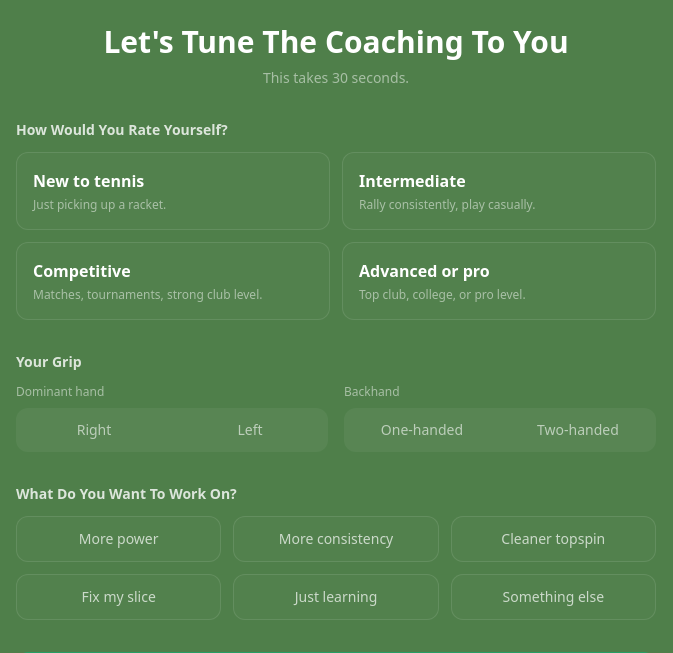
Test: OnboardingPage › surfaces an error message when updateUser rejects
expect the heading "How Would You Rate Yourself?" is shown: met, box x1=16 y1=120 x2=228 y2=139
What coordinates should you click on to do the following:
click the text "Intermediate"
I would click on:
 (412, 181)
Its box is x1=359 y1=170 x2=466 y2=192.
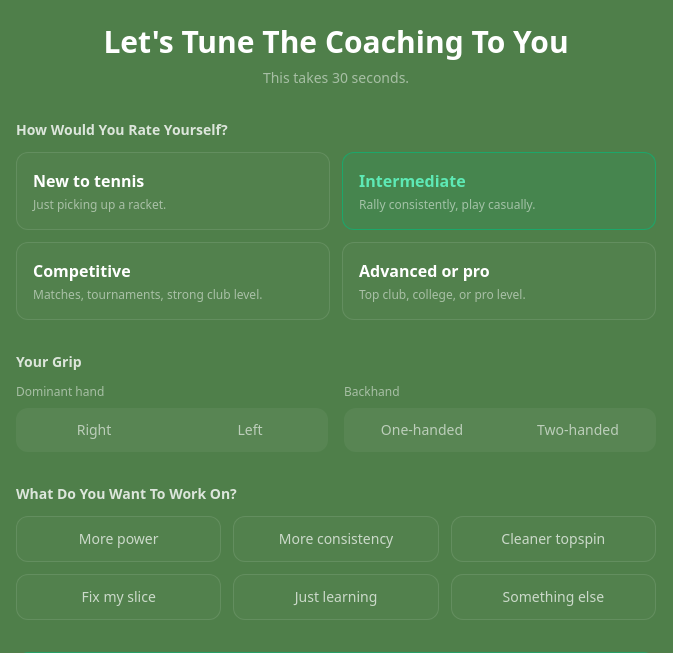
What coordinates should you click on to do the following:
click the button "Right"
I would click on:
 (94, 430)
Its box is x1=20 y1=412 x2=168 y2=448.
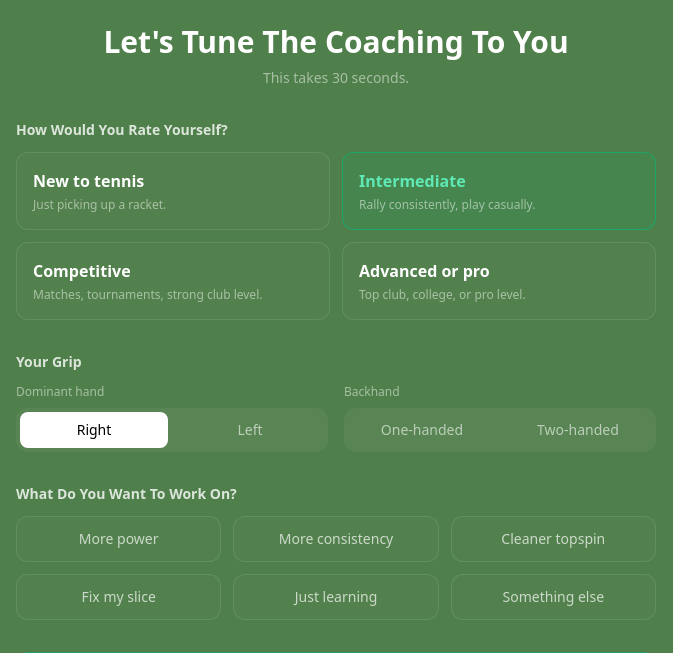
What coordinates should you click on to do the following:
click the button "Two-handed"
I would click on:
 (578, 430)
Its box is x1=504 y1=412 x2=652 y2=448.
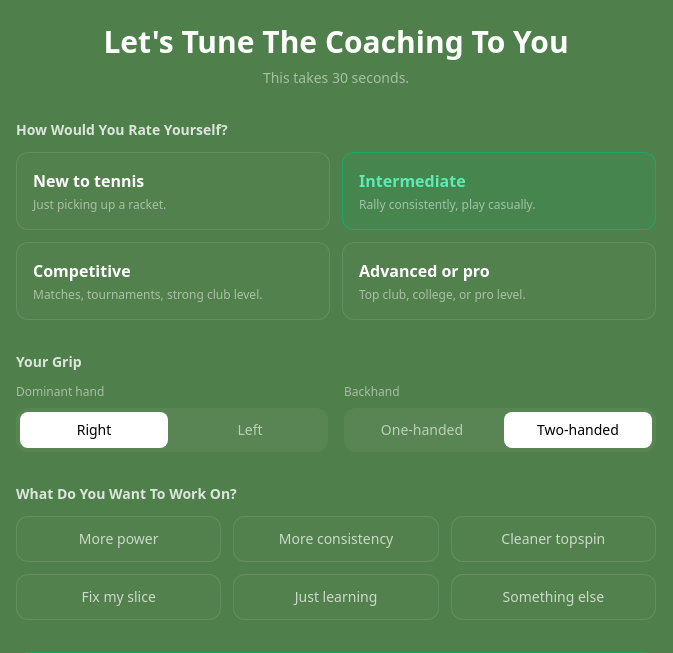
What coordinates should you click on to do the following:
click the button "More power"
I would click on:
 (119, 539)
Its box is x1=16 y1=516 x2=221 y2=562.
(page scrolled)
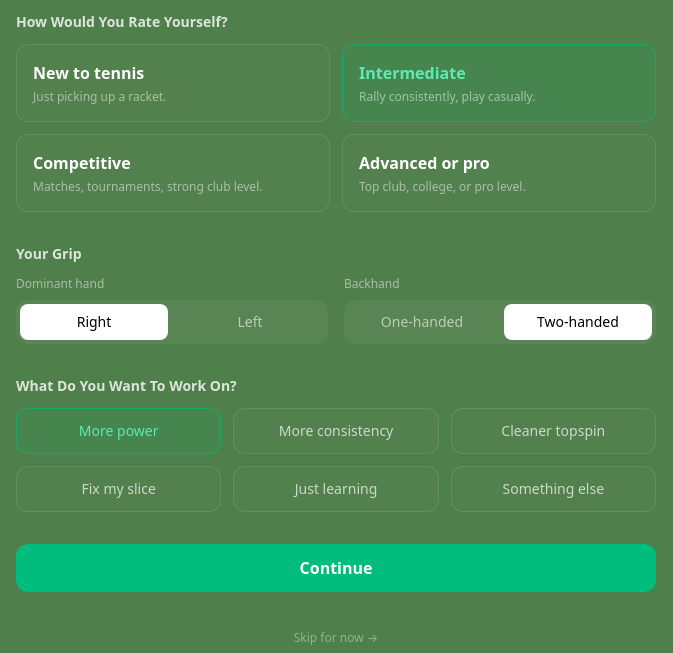
What coordinates should you click on to do the following:
click the button "Continue"
I would click on:
 (336, 568)
Its box is x1=16 y1=544 x2=656 y2=592.
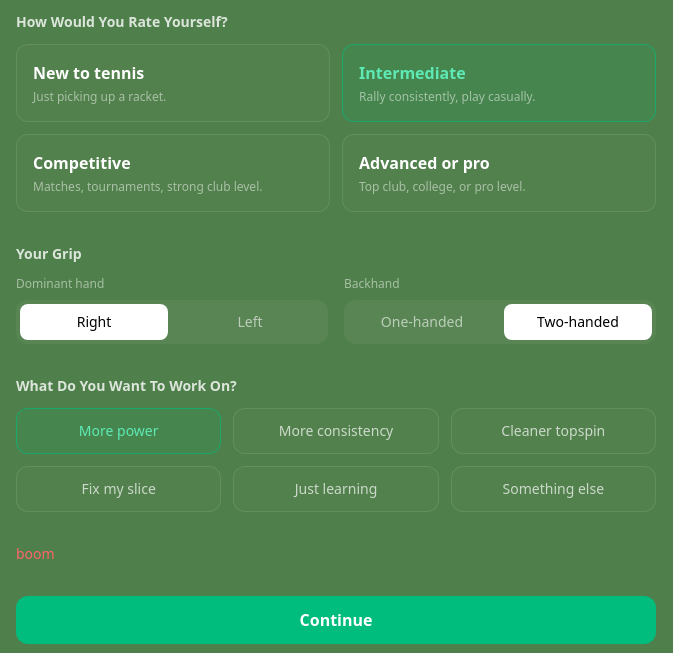
expect the button "Continue" is enabled: met, box x1=16 y1=596 x2=656 y2=644
expect the text "boom" is shown: met, box x1=16 y1=544 x2=55 y2=563
